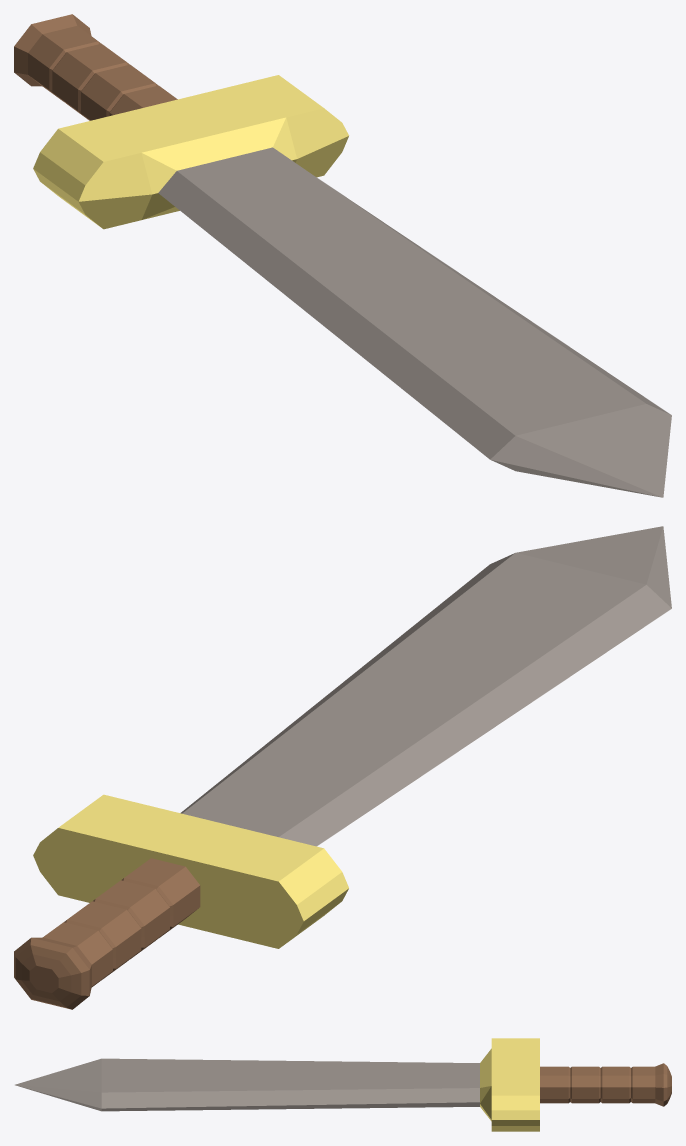
The model's file is sword_1.fbx.
The picture shows the model from 3 angles, top to bottom: view 1: azimuth 30°, elevation 25°; view 2: azimuth 150°, elevation 25°; view 3: azimuth 270°, elevation 25°; orthographic projection. The views are drawn at different scales.
Visible parts, largest first — view 1: Cube; view 2: Cube; view 3: Cube.
Part boxes in pixels (bbox=[...]): Cube: bbox=[14, 14, 671, 497]; Cube: bbox=[14, 526, 671, 1009]; Cube: bbox=[15, 1038, 671, 1131].
Bounding box in the file's own units: 40.73 × 9.7 × 161.
